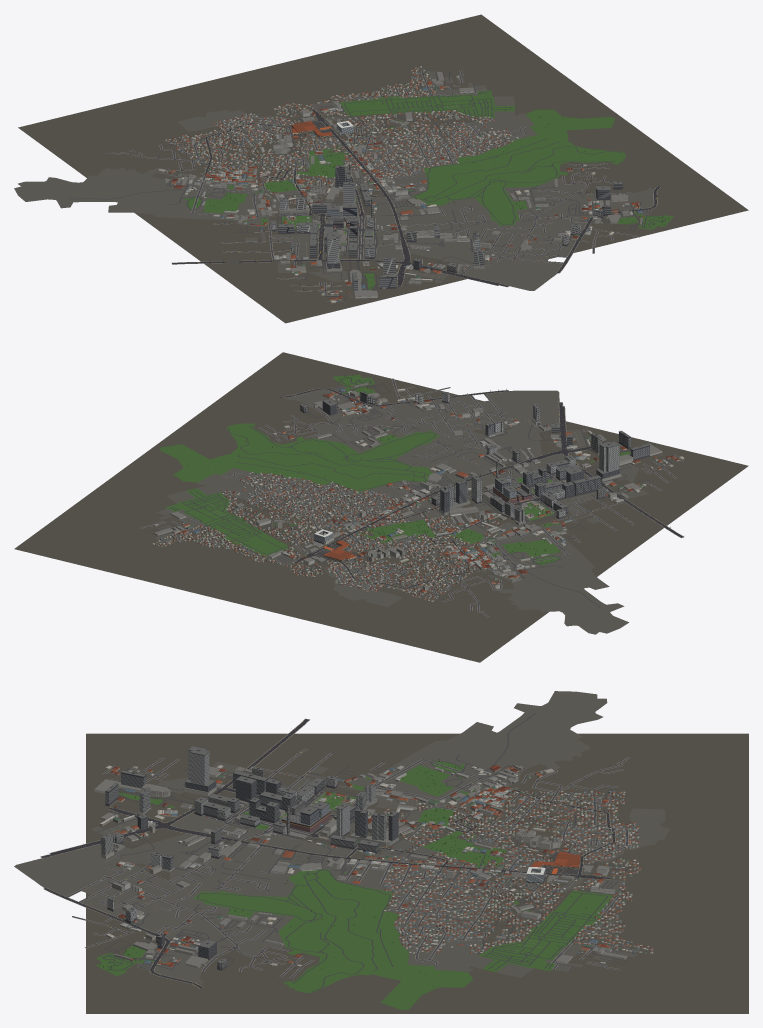
The model's file is banilad_map.glb.
3 renders of one model, top to bottom at view 1: azimuth 30°, elevation 25°; view 2: azimuth 150°, elevation 25°; view 3: azimuth 270°, elevation 25°, orthographic. The views are drawn at different scales.
Parts seen in each view (by area): view 1: Ground-col, Landuse, Roads_Minor, Buildings-col, Buildings_Infill-col, Sidewalks-col, Roads_Major, Ayala Malls Central Bloc-col, Props_Solid-col; view 2: Ground-col, Landuse, Buildings-col, Buildings_Infill-col, Roads_Minor, Sidewalks-col, Roads_Major, Ayala Malls Central Bloc-col; view 3: Ground-col, Landuse, Buildings-col, Buildings_Infill-col, Roads_Minor, Sidewalks-col, Roads_Major, Ayala Malls Central Bloc-col, Props_Solid-col.
Part boxes in pixels (left/top/right/bottom): Ground-col: left=18, top=14, right=748, bottom=323; Landuse: left=14, top=71, right=673, bottom=297; Roads_Minor: left=70, top=70, right=665, bottom=301; Buildings-col: left=157, top=71, right=643, bottom=303; Buildings_Infill-col: left=165, top=66, right=519, bottom=203; Sidewalks-col: left=105, top=70, right=660, bottom=302; Roads_Major: left=172, top=110, right=660, bottom=286; Ayala Malls Central Bloc-col: left=326, top=203, right=358, bottom=228; Props_Solid-col: left=129, top=73, right=668, bottom=300; Ground-col: left=14, top=352, right=748, bottom=662; Landuse: left=151, top=375, right=663, bottom=634; Buildings-col: left=153, top=382, right=684, bottom=593; Buildings_Infill-col: left=152, top=471, right=502, bottom=601; Roads_Minor: left=139, top=377, right=682, bottom=617; Sidewalks-col: left=139, top=378, right=684, bottom=617; Roads_Major: left=279, top=388, right=683, bottom=588; Ayala Malls Central Bloc-col: left=493, top=477, right=532, bottom=503; Ground-col: left=86, top=733, right=748, bottom=1013; Landuse: left=14, top=691, right=669, bottom=1010; Buildings-col: left=100, top=746, right=627, bottom=968; Buildings_Infill-col: left=383, top=790, right=653, bottom=954; Roads_Minor: left=67, top=713, right=642, bottom=991; Sidewalks-col: left=40, top=718, right=642, bottom=988; Roads_Major: left=41, top=719, right=615, bottom=988; Ayala Malls Central Bloc-col: left=282, top=801, right=330, bottom=832; Props_Solid-col: left=50, top=748, right=631, bottom=986.
Size of what is drawn, in the model's own units: 2880 by 169 by 2771.
